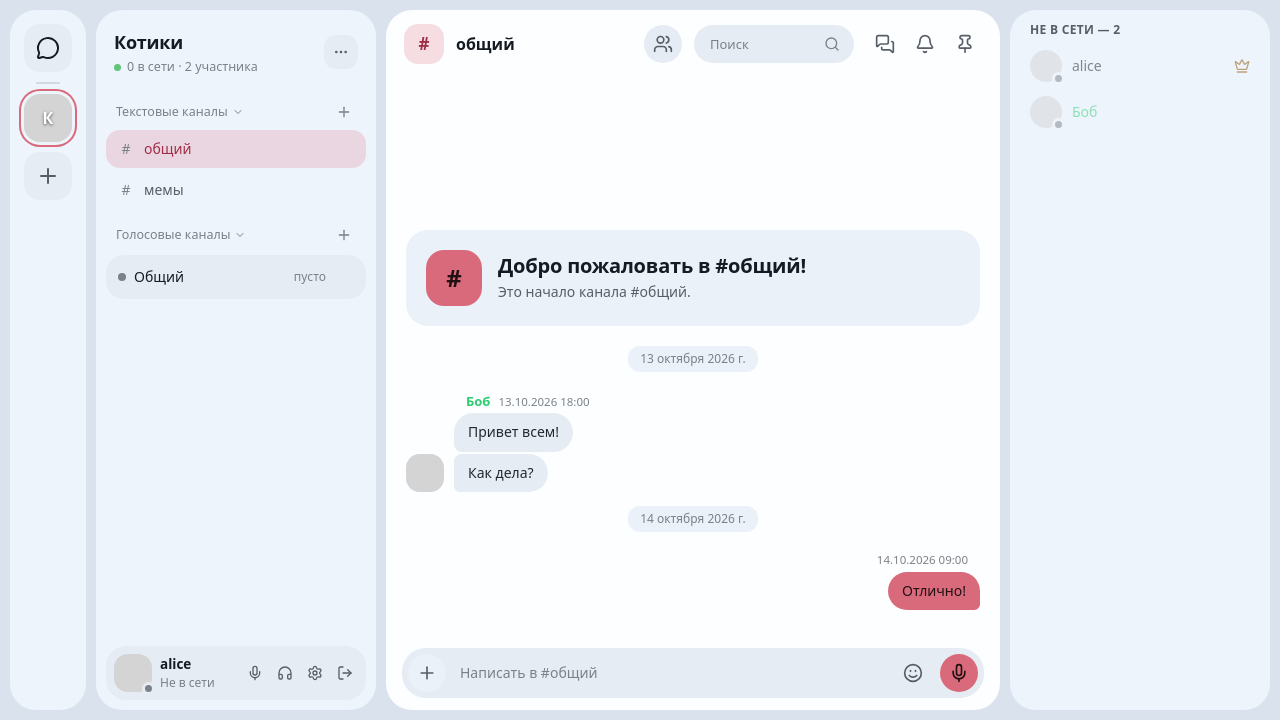
Test: searching a server › finds messages and shows where they are
The width and height of the screenshot is (1280, 720).
Type "кот" into the search field labelled "Поиск" at (774, 44), box 694,25 -> 854,63
Then press Enter
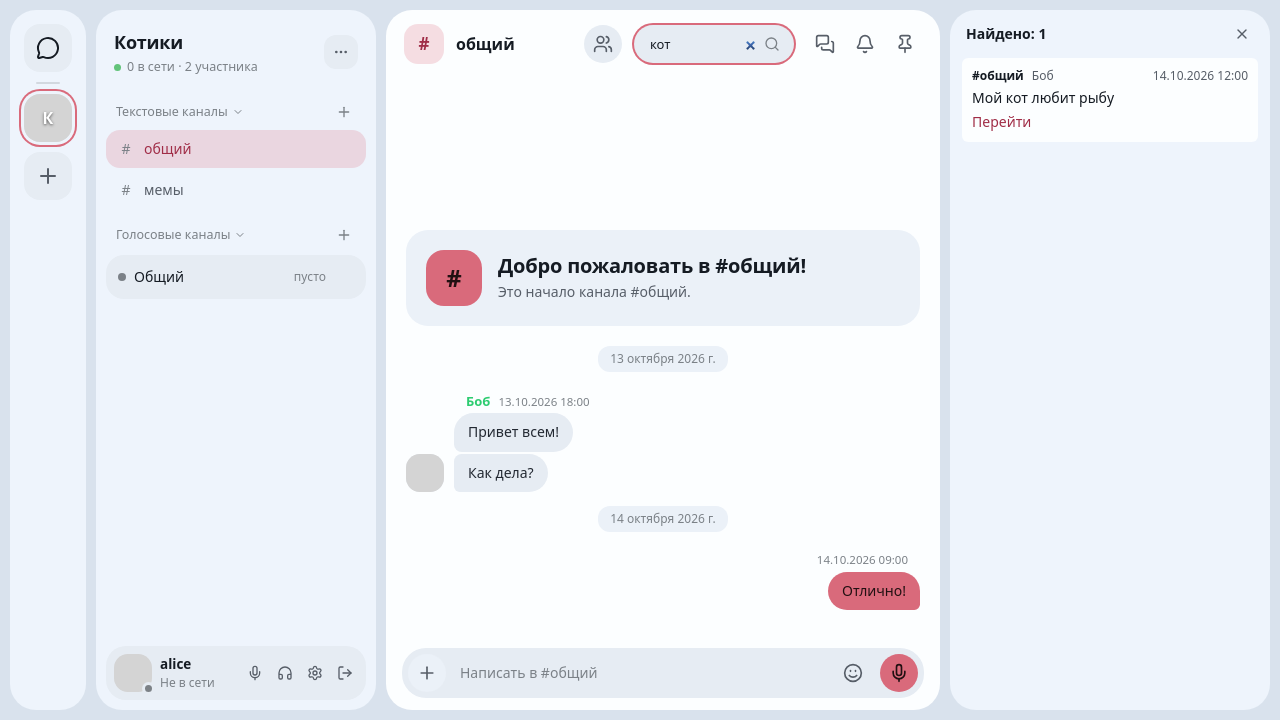
Now the heading "Найдено: 1" is shown, box 966,24 -> 1046,44
Now the text "Мой кот любит рыбу" is shown, box 972,88 -> 1114,107
Now the text "#общий" is shown, box 972,68 -> 1024,84
